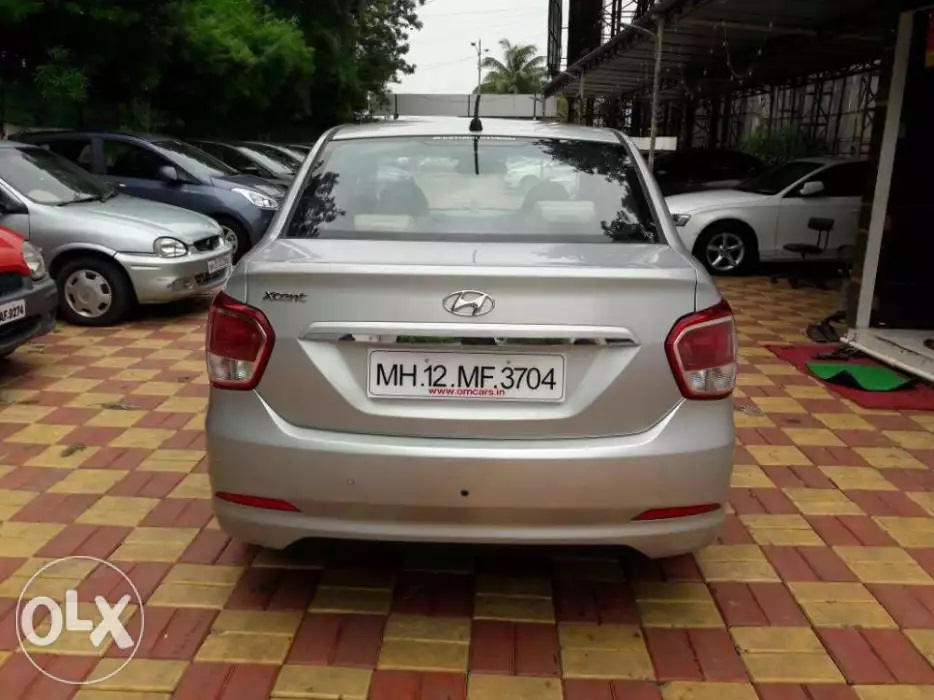licenseplate: (367, 346, 574, 407)
